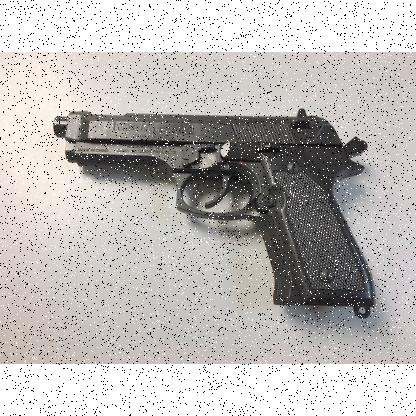gun: (48, 101, 376, 315)
